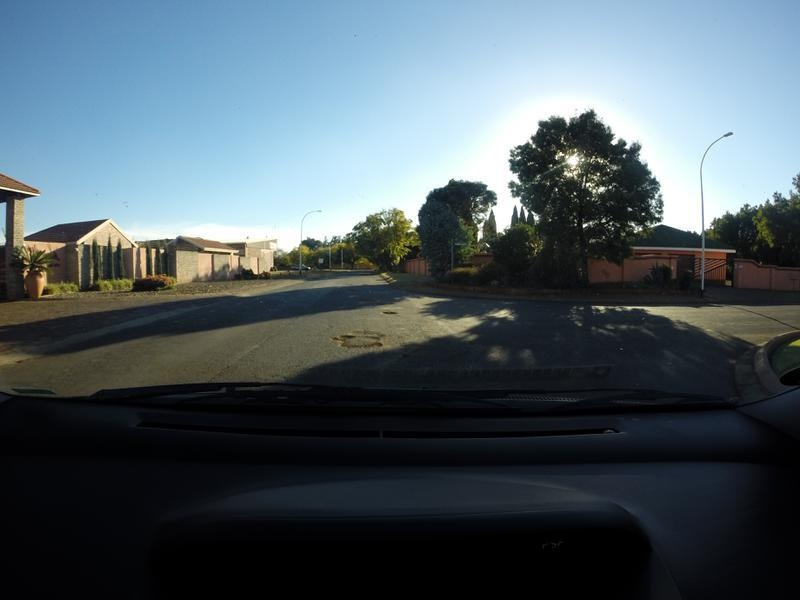pothole: (320, 321, 387, 358), (361, 306, 404, 322)
